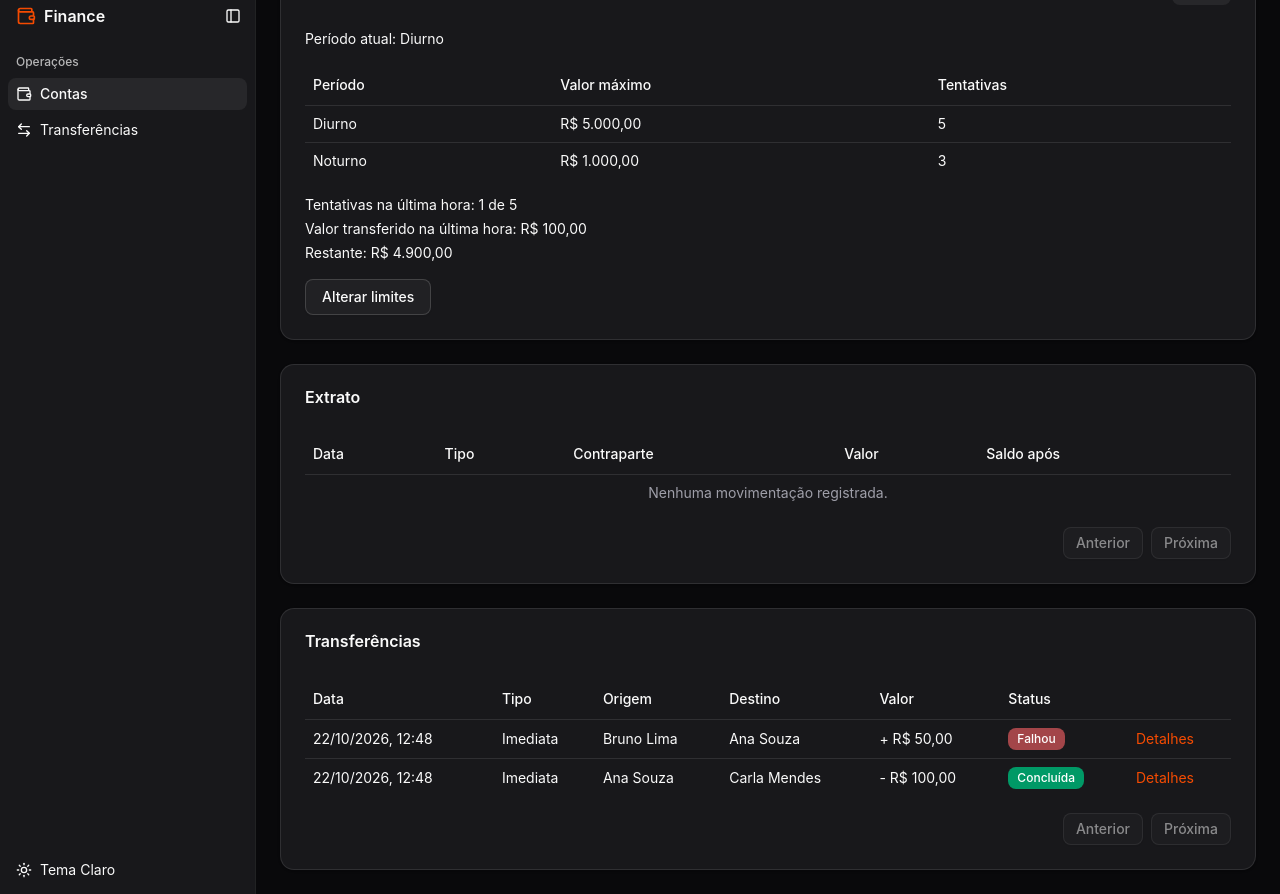
Transfer history on the account page › opens a transfer from the history
(page scrolled)
Click the link "Detalhes" in the row of "Carla Mendes": [1165, 777] box [1136,768,1194,786]
(page scrolled)
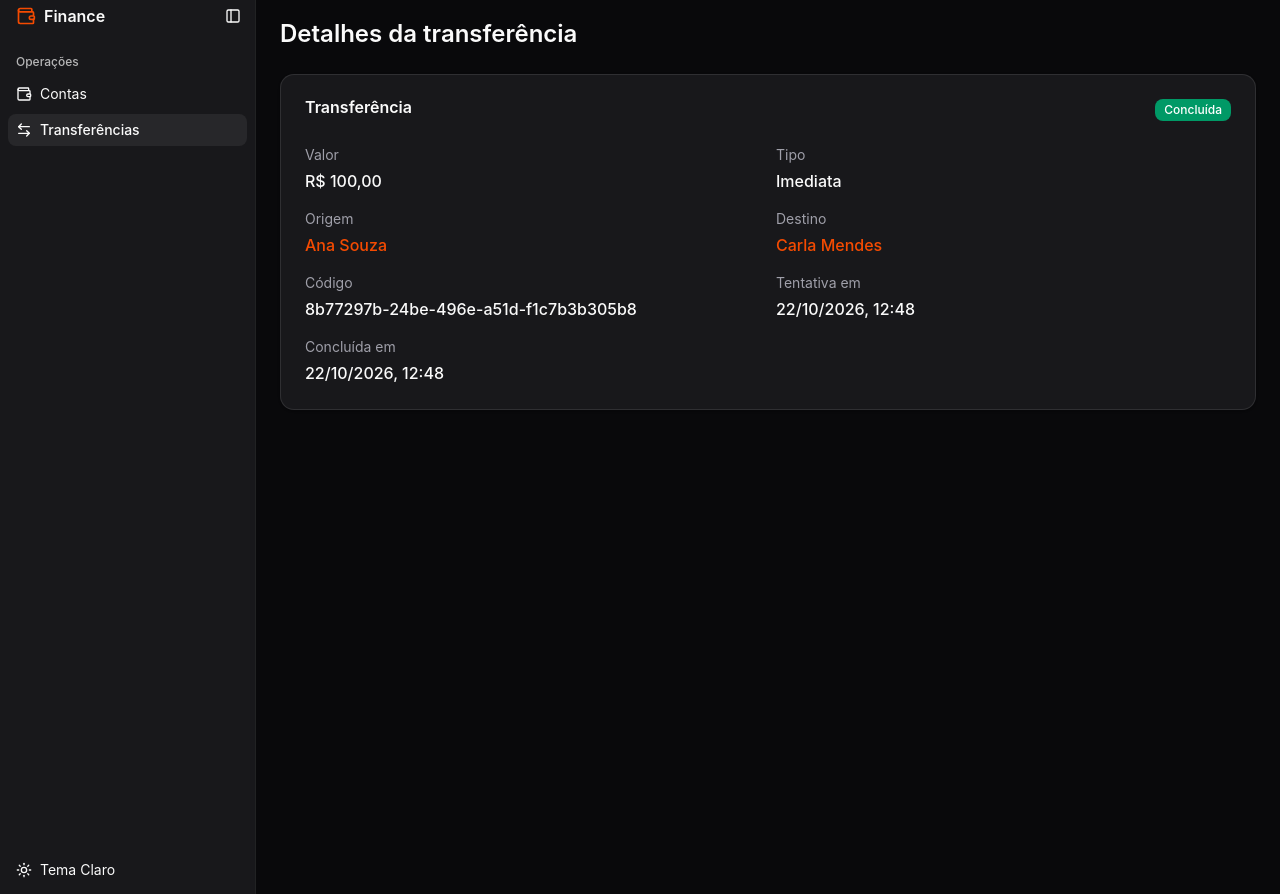
Expected: the heading "Detalhes da transferência" is shown, [280,18,577,50]
